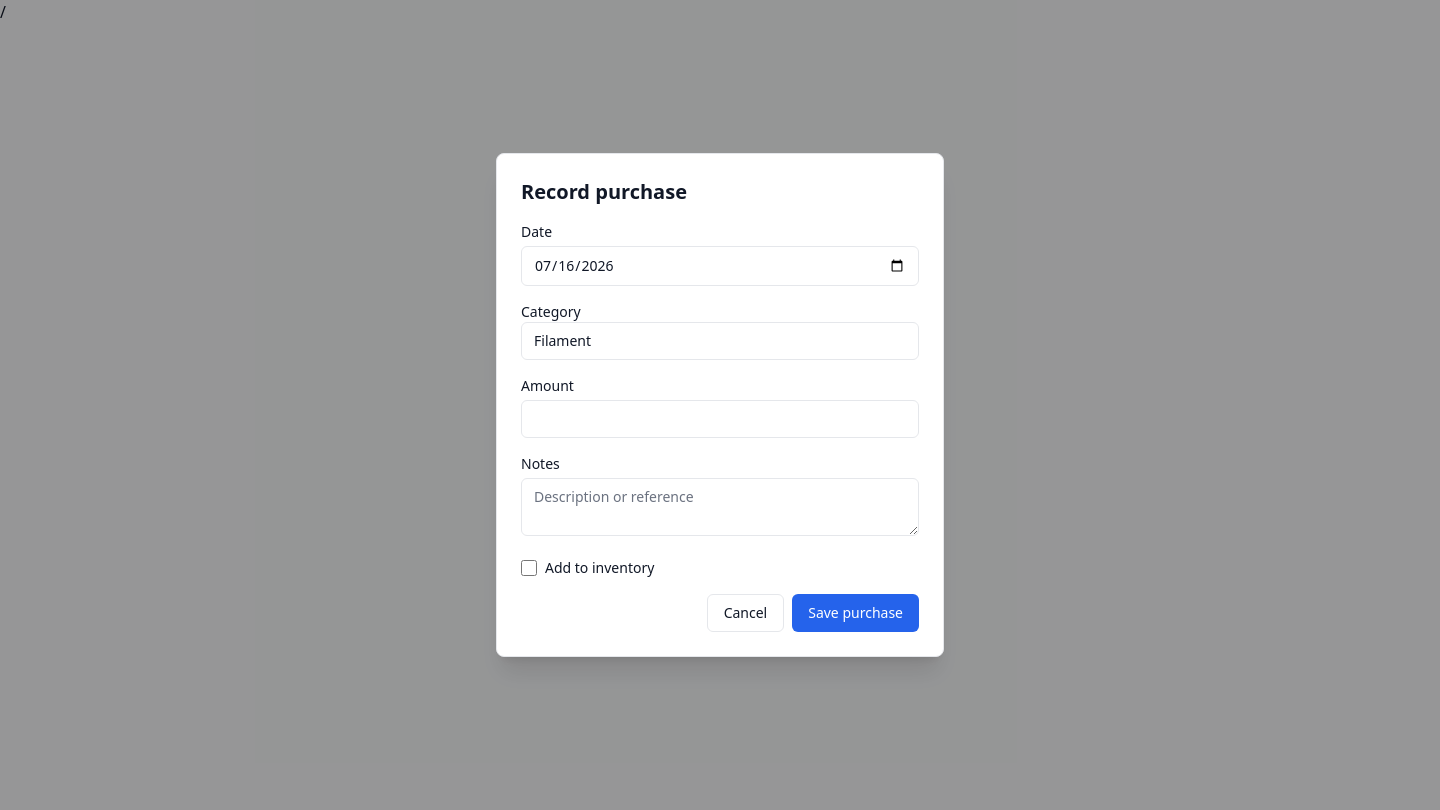
Test: CreatePurchaseDialog › overhead purchase › rejects a zero amount inline
The image size is (1440, 810).
Type "0" into the number field labelled "Amount" at [720, 419], box x1=521 y1=400 x2=919 y2=438
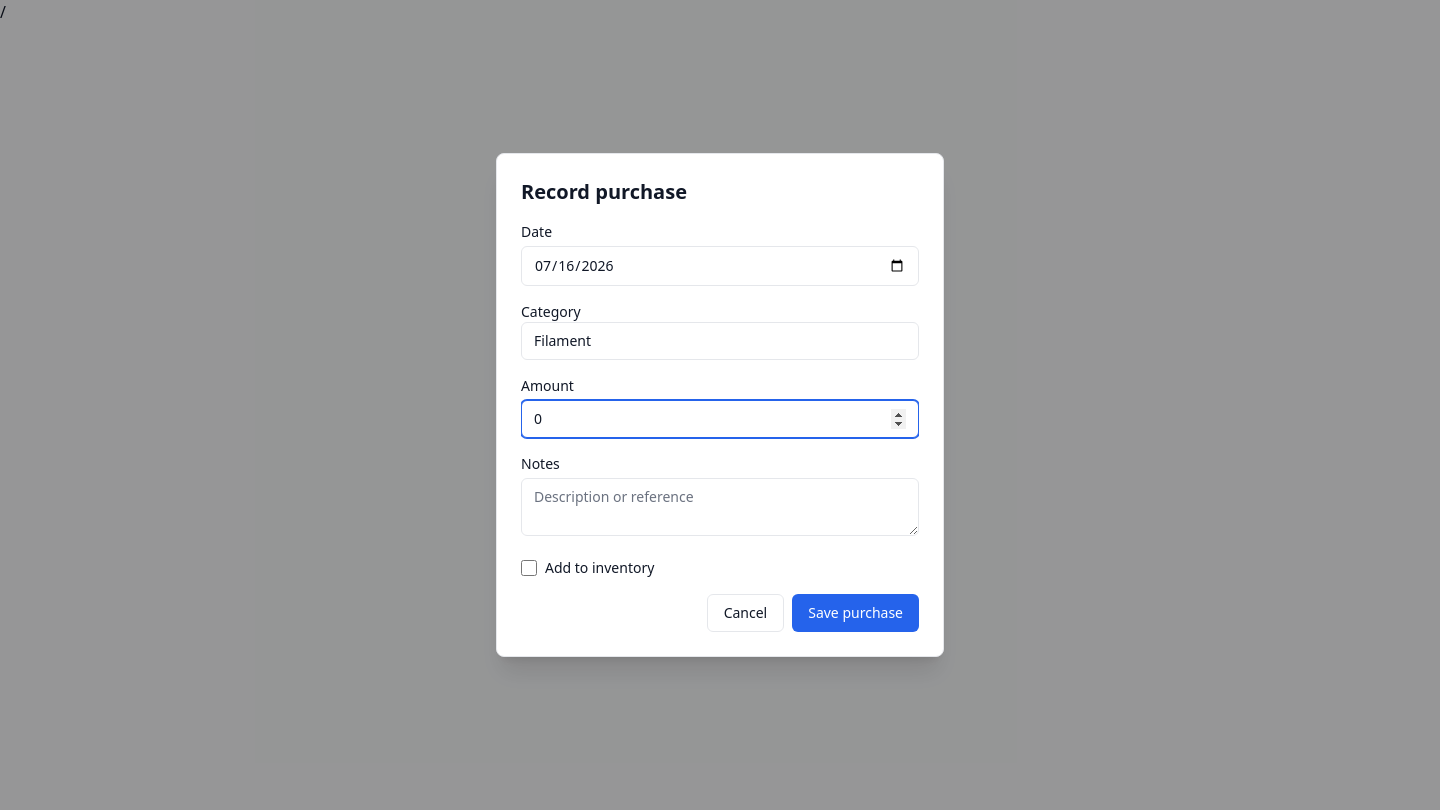
Click the button with test id "purchase-submit" at [856, 613], box x1=792 y1=594 x2=919 y2=632
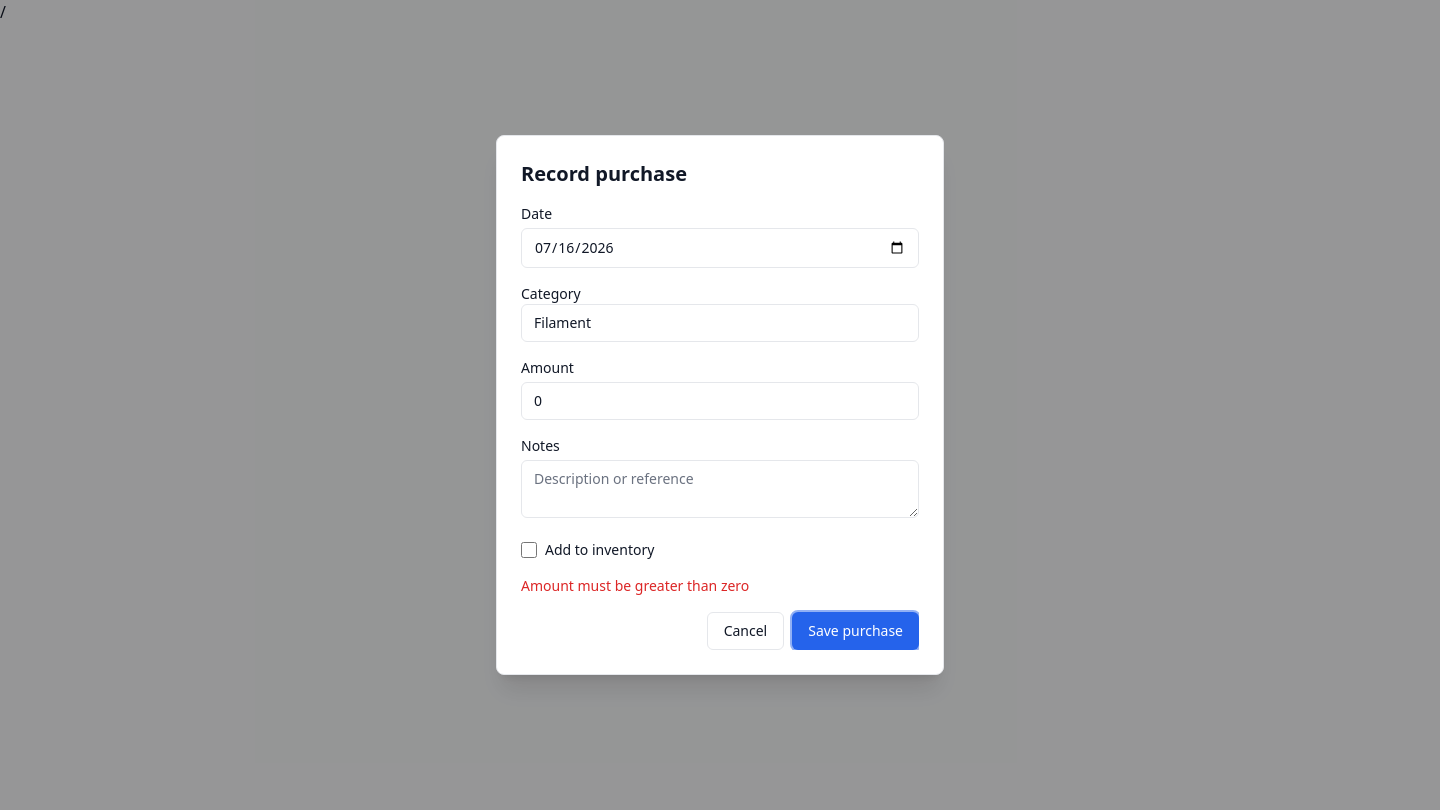
Expected: the message reads "Amount must be greater than zero", x1=521 y1=576 x2=749 y2=595
